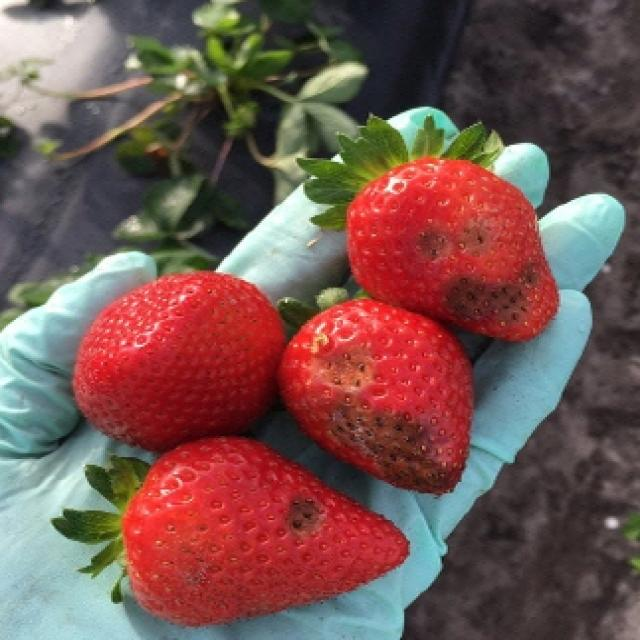Anthracnose Fruit Rot: (304, 329, 469, 495), (406, 214, 550, 332), (274, 486, 334, 544)
